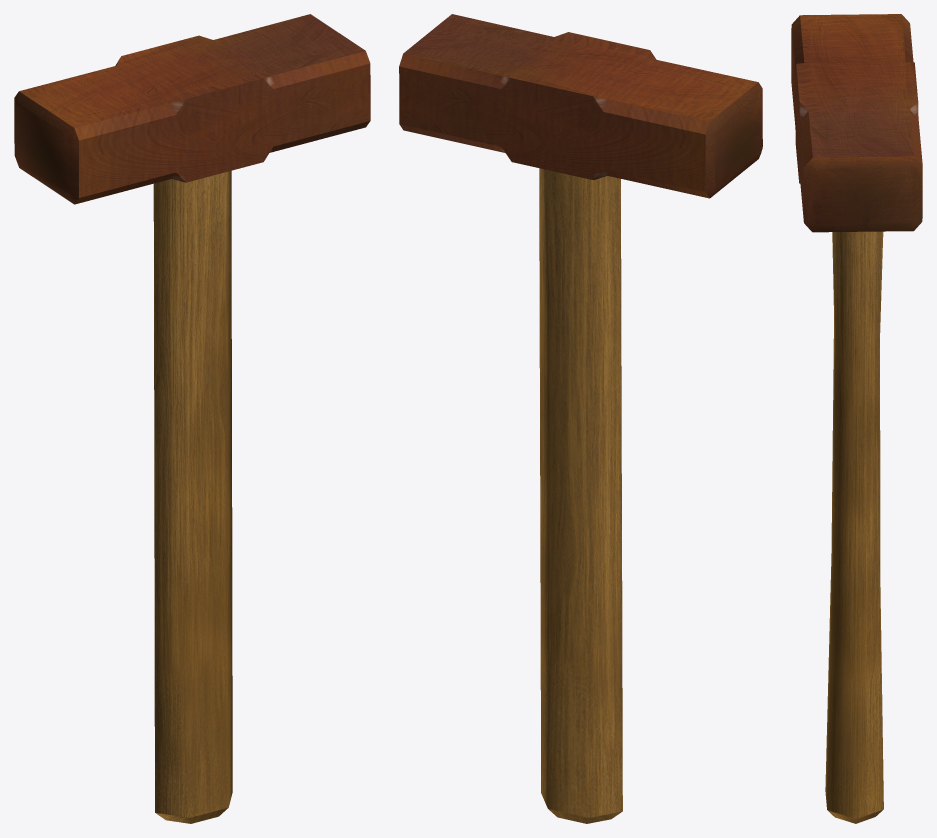
File: HammerSmall.FBX
3 views of the same model, side by side, from view 1: azimuth 30°, elevation 25°; view 2: azimuth 150°, elevation 25°; view 3: azimuth 270°, elevation 25° (orthographic). The views are drawn at different scales.
Parts seen in each view (by area): view 1: SHammerShafte, SHammerHead; view 2: SHammerShafte, SHammerHead; view 3: SHammerShafte, SHammerHead.
Part boxes in pixels (x1,y1,x2,y2): SHammerShafte: (153, 170, 232, 823); SHammerHead: (14, 14, 370, 204); SHammerShafte: (539, 168, 622, 823); SHammerHead: (399, 14, 762, 198); SHammerShafte: (825, 231, 883, 823); SHammerHead: (791, 14, 922, 232).
Size of the model in its own units: 2.15 by 4.95 by 0.8098.
Materials: 1 (1 with a texture image).
